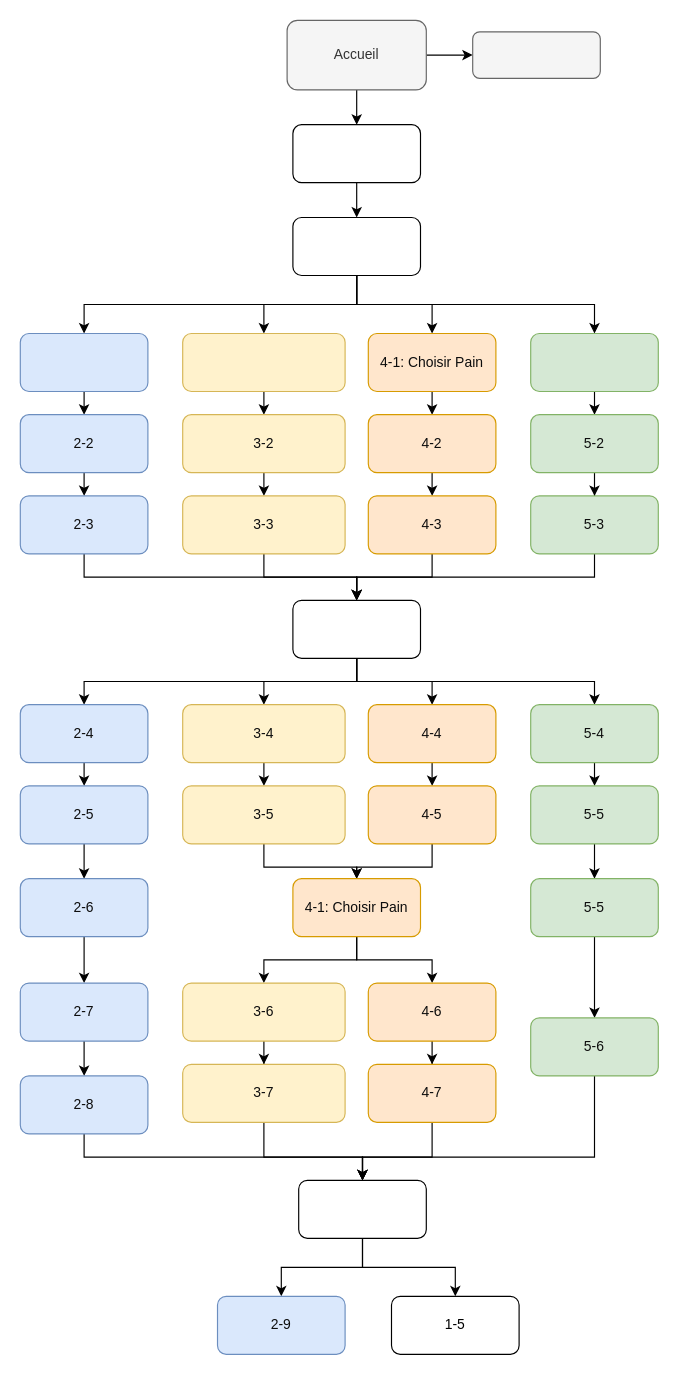
The diagram is 679 pixels wide and 1375 high, and some of its shapes have lost their labels. The shapes that lost their labels are listed below. From the top down, each one's box as (x1, y1, x2, y2) in pixels, then its label:
(472, 31, 600, 78): Paramètres
(292, 124, 420, 183): 1-1: Marché
(292, 216, 420, 276): 1-2: Le Comte
(19, 332, 148, 392): 2-1: Choisir Lusin
(182, 332, 345, 392): 3-1: Choisir Cherminon
(530, 332, 658, 392): 5-1: Choisir Alvart
(292, 599, 420, 658): 1-3: Meutre de Lorie
(298, 1179, 426, 1238): 1-4: Assaut
